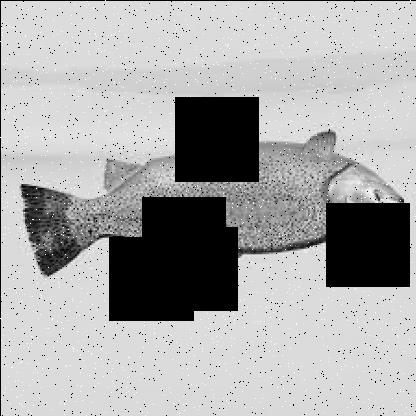fish: (18, 128, 406, 279)
